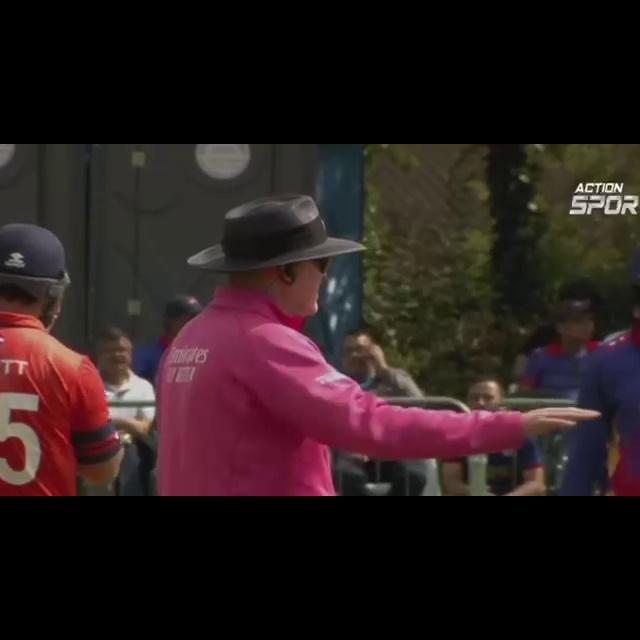umpire: (97, 184, 608, 496)
